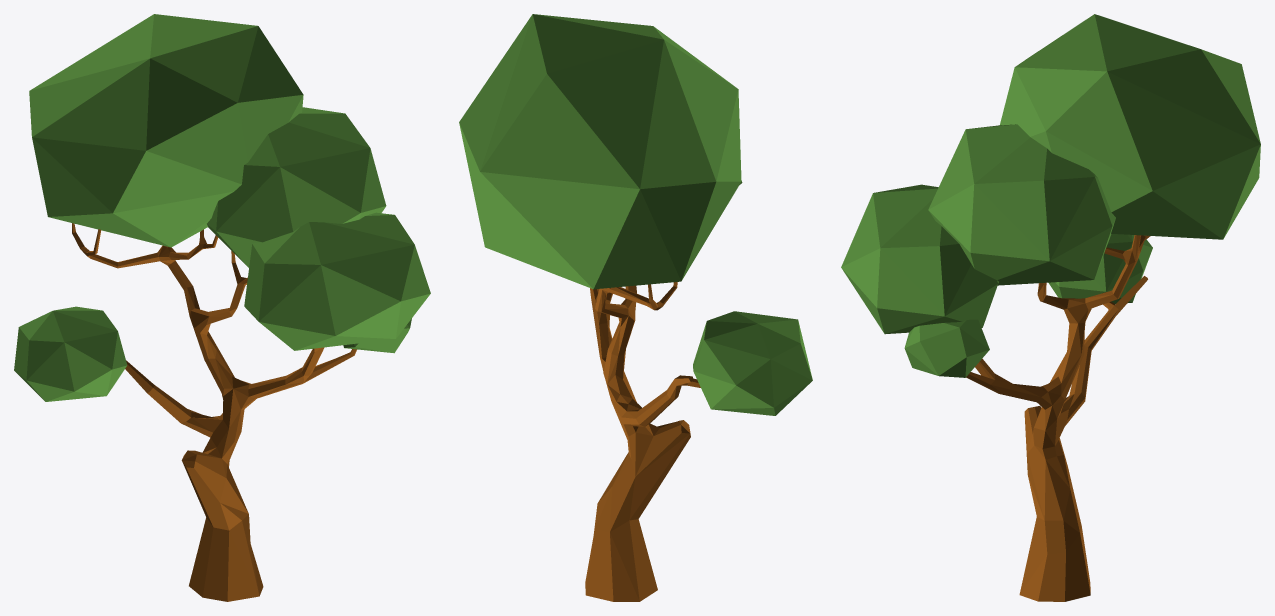
File: ArbolSolo4.obj
3 views of the same model, side by side, from view 1: azimuth 30°, elevation 25°; view 2: azimuth 150°, elevation 25°; view 3: azimuth 270°, elevation 25° (orthographic). The views are drawn at different scales.
Parts seen in each view (by area): view 1: Lowpoly_Tree_15, TroncoB005; view 2: Lowpoly_Tree_15, TroncoB005; view 3: Lowpoly_Tree_15, TroncoB005.
Boxes of the visible parts, x1=… form: Lowpoly_Tree_15: x1=14, y1=14, x2=430, y2=401; TroncoB005: x1=72, y1=223, x2=356, y2=601; Lowpoly_Tree_15: x1=459, y1=14, x2=812, y2=415; TroncoB005: x1=585, y1=282, x2=700, y2=601; Lowpoly_Tree_15: x1=841, y1=14, x2=1260, y2=377; TroncoB005: x1=966, y1=235, x2=1150, y2=601.
Size of the model in its own units: 14.71 by 23.31 by 16.29.
